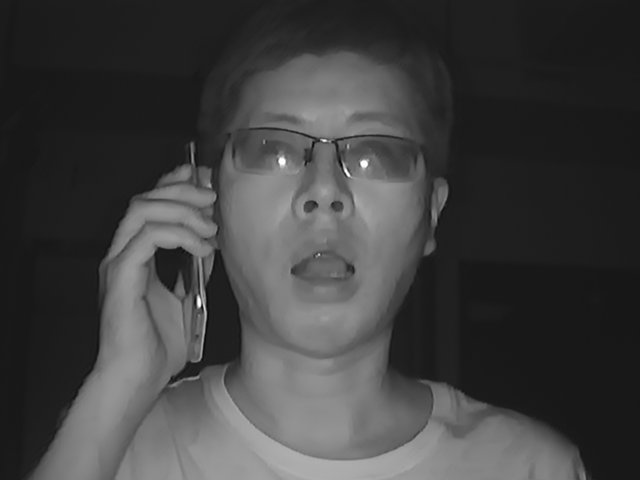hand: (84, 163, 216, 362)
